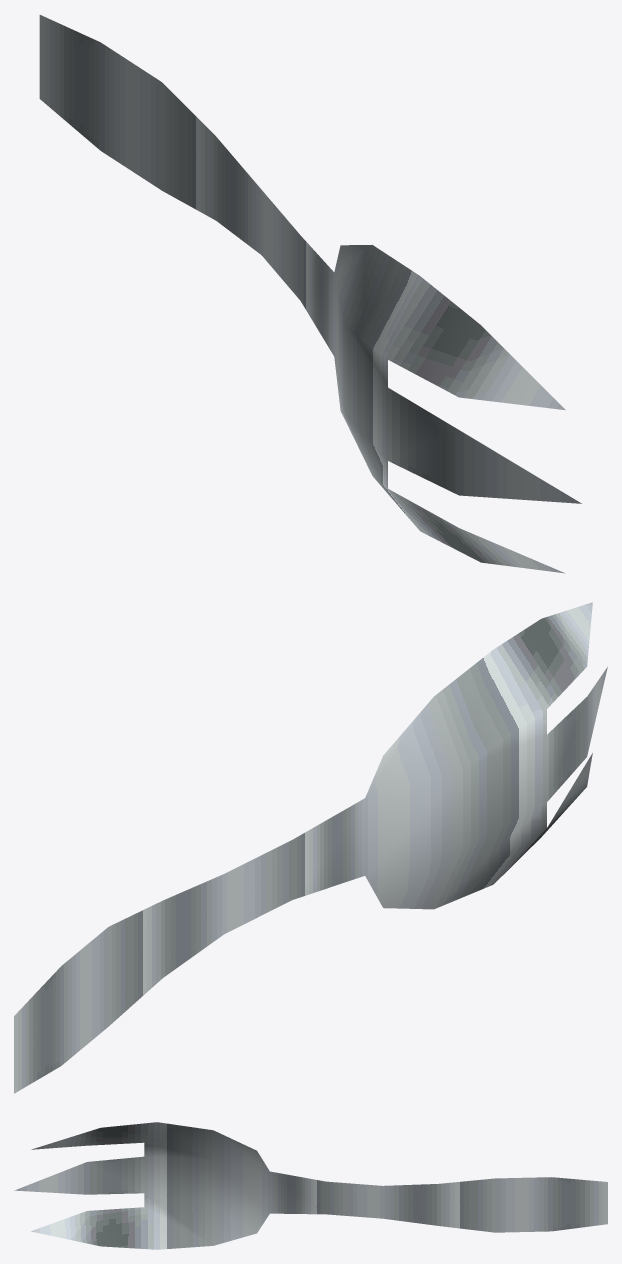
Rendered from 2754falk.gltf.
3 renders of one model, top to bottom at view 1: azimuth 30°, elevation 25°; view 2: azimuth 150°, elevation 25°; view 3: azimuth 270°, elevation 25°, orthographic. The views are drawn at different scales.
Visible parts, largest first — view 1: 2754falk; view 2: 2754falk; view 3: 2754falk.
Part boxes in pixels (x1,y1,x2,y2): 2754falk: (39, 15, 581, 573); 2754falk: (14, 602, 607, 1093); 2754falk: (14, 1122, 607, 1249).
Bounding box in the file's own units: 0.082 × 0.1597 × 0.6731.
Materials: 1 (1 with a texture image).
